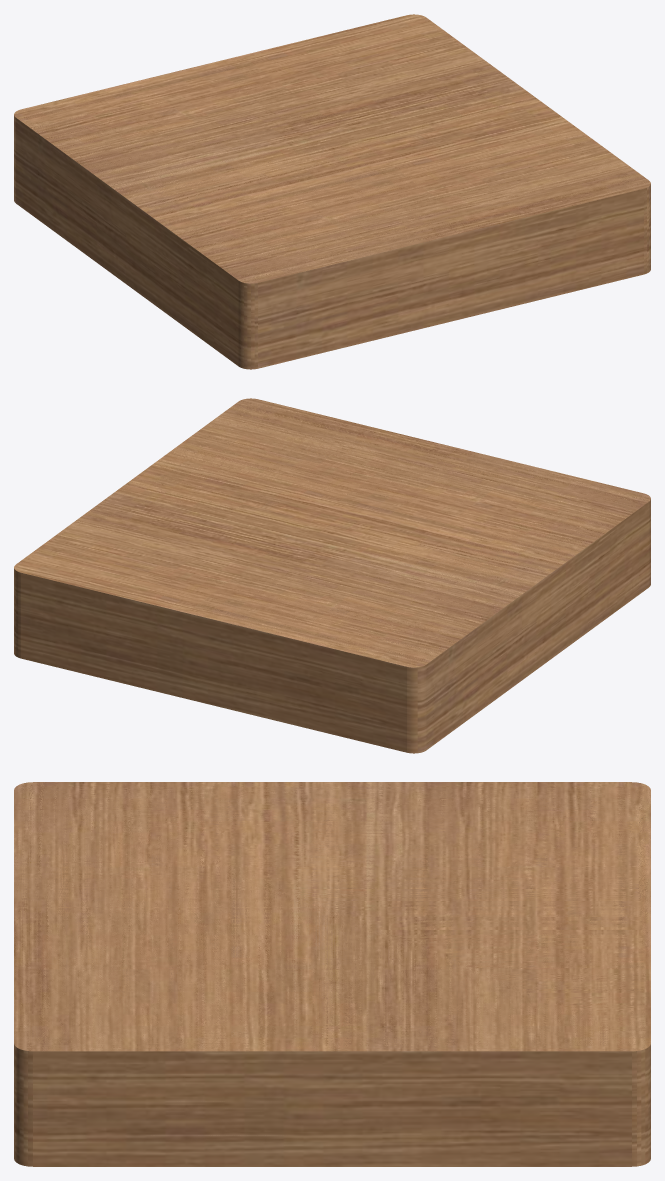
File: square_oak.fbx
3 views of the same model, one above another, from view 1: azimuth 30°, elevation 25°; view 2: azimuth 150°, elevation 25°; view 3: azimuth 270°, elevation 25° (orthographic). The views are drawn at different scales.
Visible parts, largest first — view 1: Model; view 2: Model; view 3: Model.
Boxes of the visible parts, x1,y1,x2,y2 form: Model: (14, 14, 650, 369); Model: (14, 398, 650, 753); Model: (14, 782, 650, 1166).
Bounding box in the file's own units: 5 × 1 × 5.
